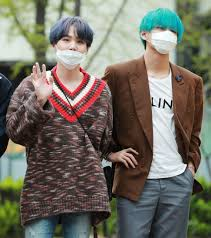mask_weared_incorrect: (61, 34, 85, 67)
with_mask: (152, 25, 177, 52)
